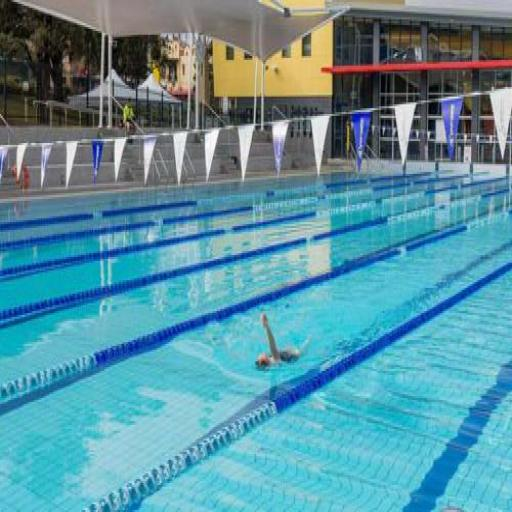swimming: (253, 307, 312, 373)
